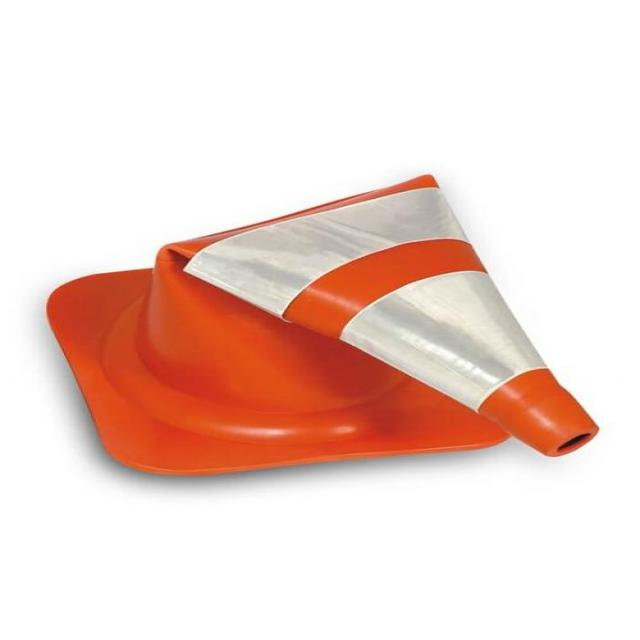cone: (58, 170, 557, 468)
